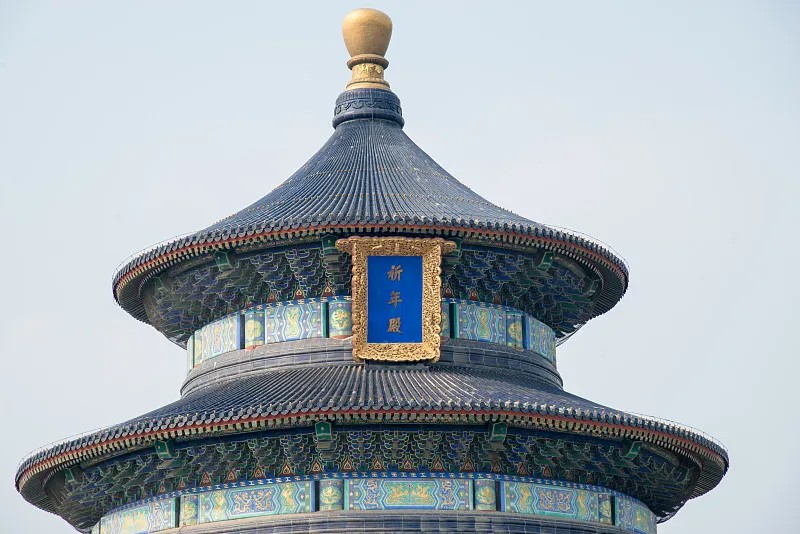Heaven: (14, 9, 729, 534)
